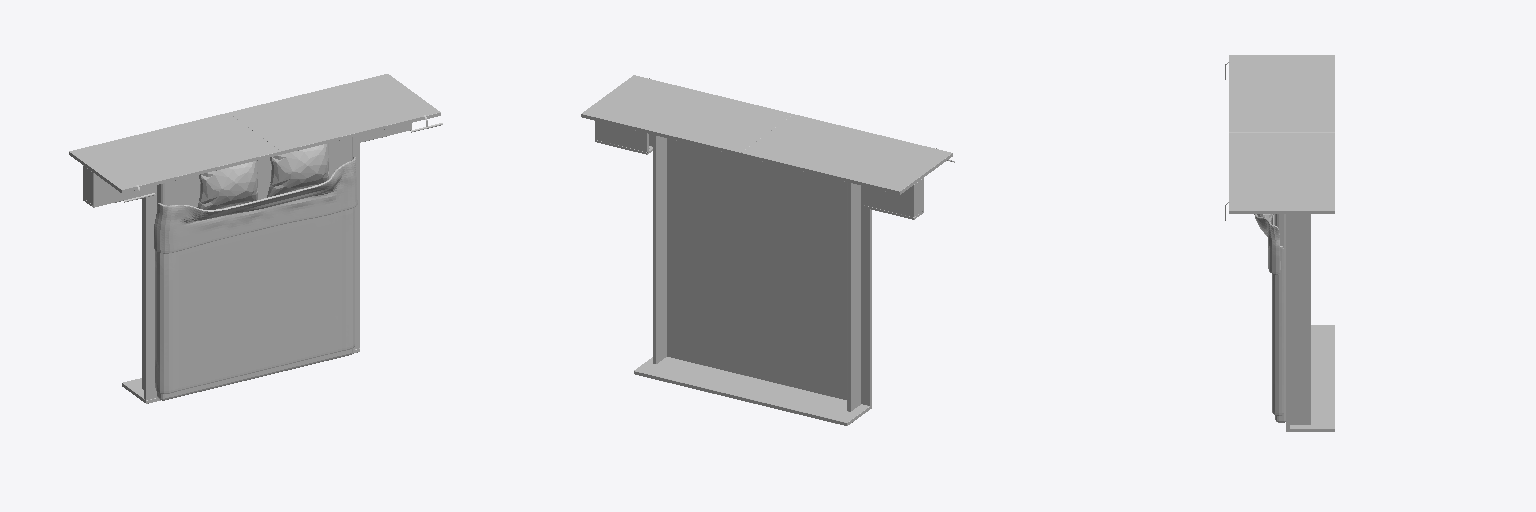
File: Snooze OBJ.obj
The picture shows the model from 3 angles: view 1: azimuth 30°, elevation 25°; view 2: azimuth 150°, elevation 25°; view 3: azimuth 270°, elevation 25°; orthographic projection.
Parts seen in each view (by area): view 1: Object01; view 2: Object01; view 3: Object01.
Part boxes in pixels (x1,y1,x2,y2): Object01: (69,74,442,403); Object01: (581,75,954,425); Object01: (1225,55,1334,431).
Bounding box in the file's own units: 2988 × 2223 × 893.